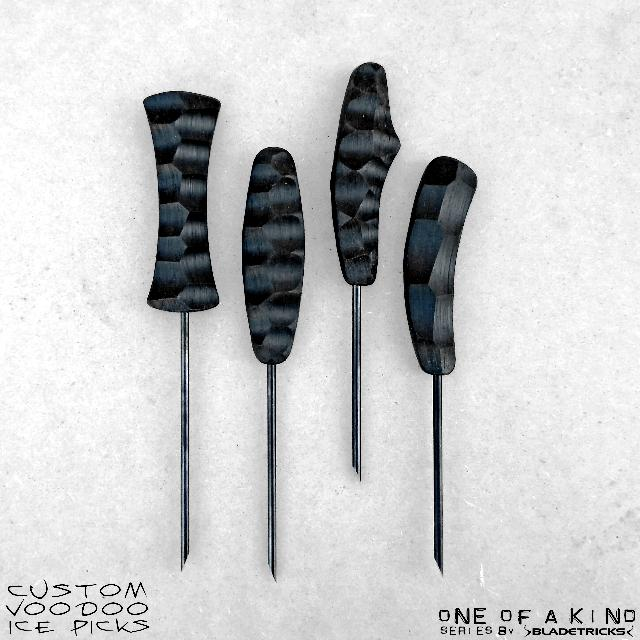ice pick: (144, 92, 220, 572), (403, 155, 477, 577), (332, 61, 400, 483), (243, 148, 304, 582)
